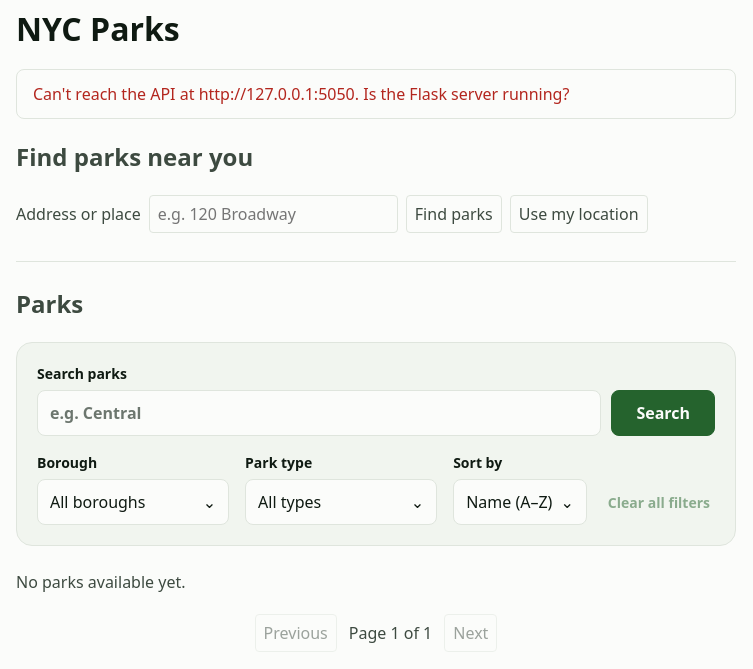
Test: App search › says when nothing matches
The width and height of the screenshot is (753, 669).
Expected: the text "No parks available yet." is shown, [16,571,186,593]
Type "zzz" into the search field labelled "Search parks" at [319, 413], box [37,390,601,436]
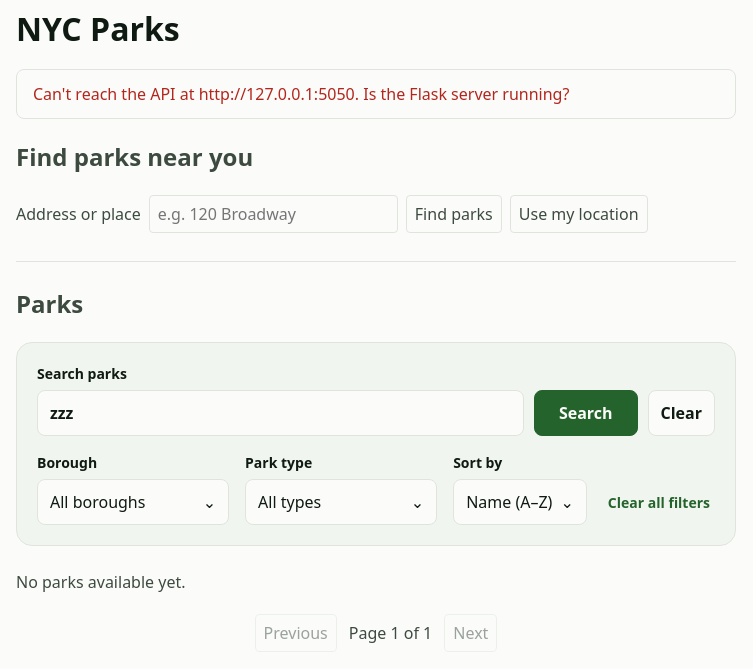
Click the button "Search" at [586, 413], box [534,390,638,436]
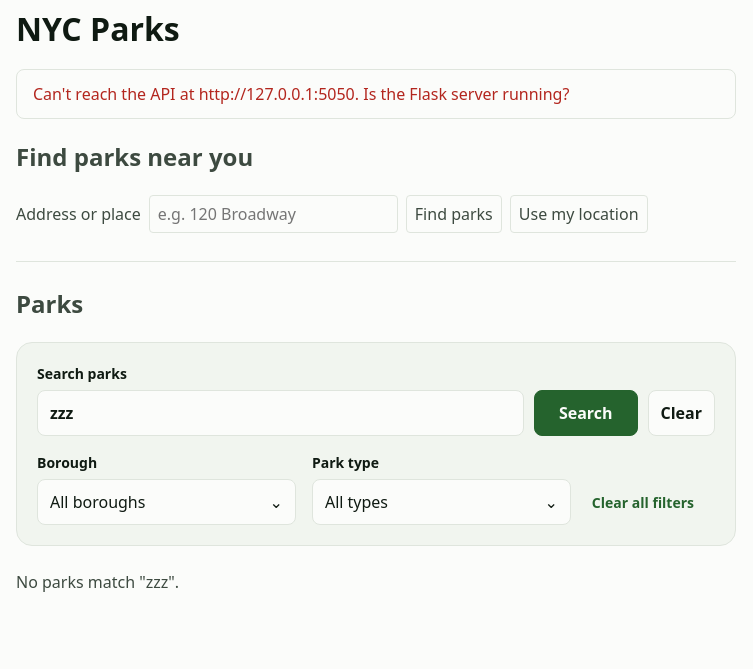
Now the text "No parks match \"zzz\"." is shown, box [16,571,179,593]
